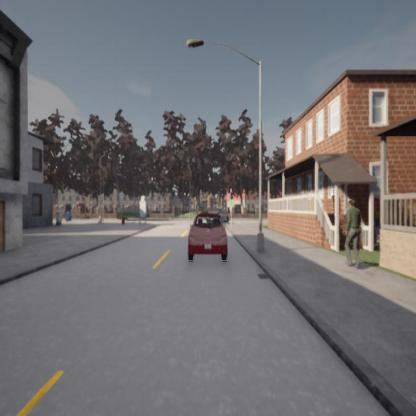person: (342, 198, 363, 268)
vehicle: (187, 211, 228, 261)
